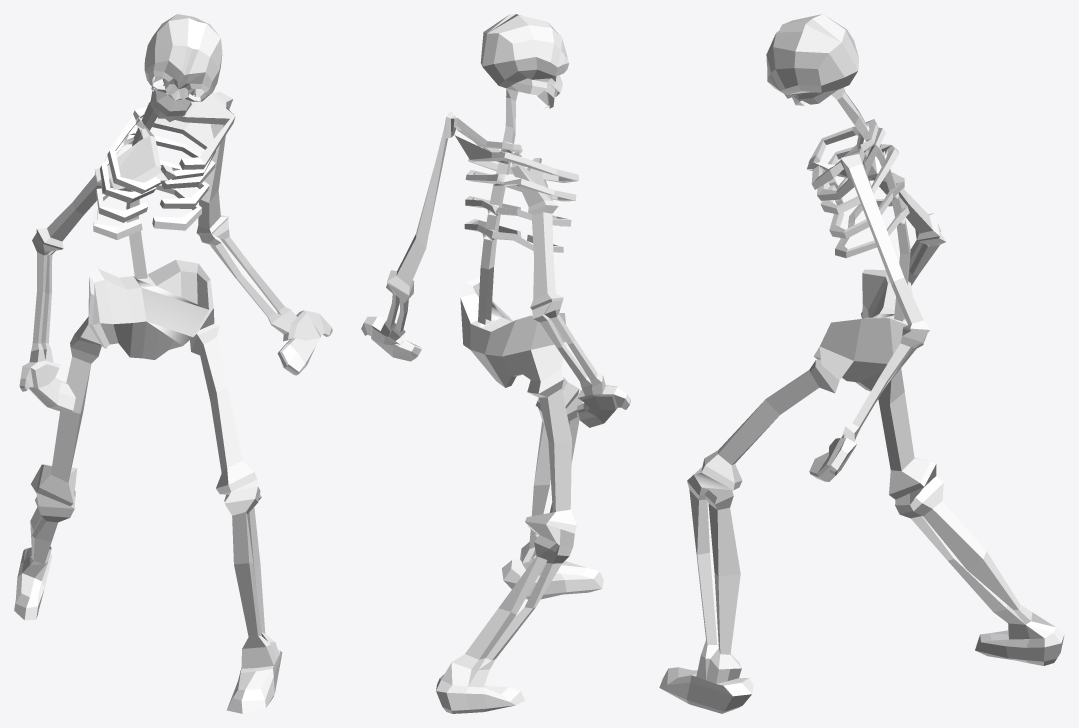
The model's file is SkeletonIdle(50).obj.
3 renders of one model, left to right at view 1: azimuth 30°, elevation 25°; view 2: azimuth 150°, elevation 25°; view 3: azimuth 270°, elevation 25°, orthographic. The views are drawn at different scales.
Parts seen in each view (by area): view 1: Object002; view 2: Object002; view 3: Object002.
Part boxes in pixels (box(x1,y1,x2,y2)): Object002: box(14, 14, 332, 713); Object002: box(361, 14, 630, 713); Object002: box(659, 14, 1064, 713).
Size of the model in its own units: 537 by 1118 by 610.
